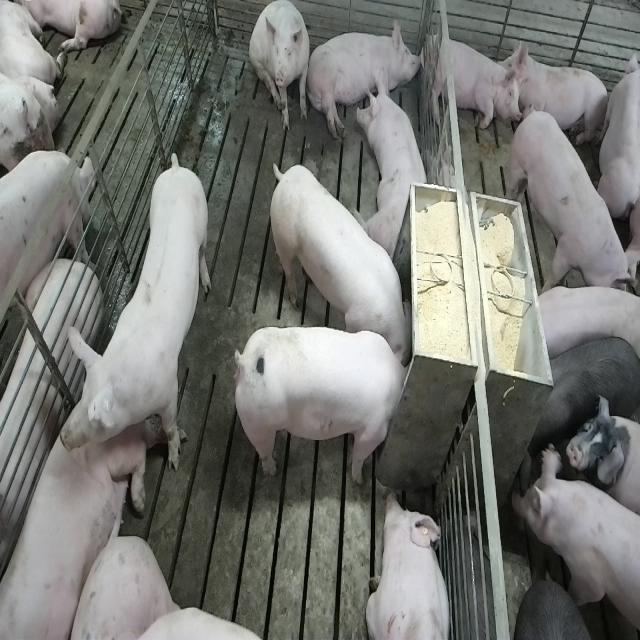Feeding: (265, 160, 411, 362), (240, 324, 418, 485)
Lateral_lying: (306, 15, 426, 140)
Sitting: (249, 2, 312, 134)
Standing: (61, 157, 212, 488), (512, 445, 638, 640), (509, 103, 633, 298), (0, 153, 94, 351), (526, 334, 638, 459), (526, 281, 639, 364), (518, 573, 618, 640)
Sternal_lying: (0, 376, 146, 640), (359, 71, 433, 259), (365, 489, 453, 640), (505, 39, 611, 153), (425, 33, 516, 133)
